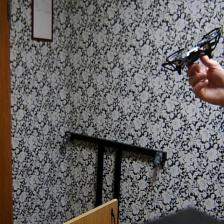drone: (155, 24, 224, 77)
